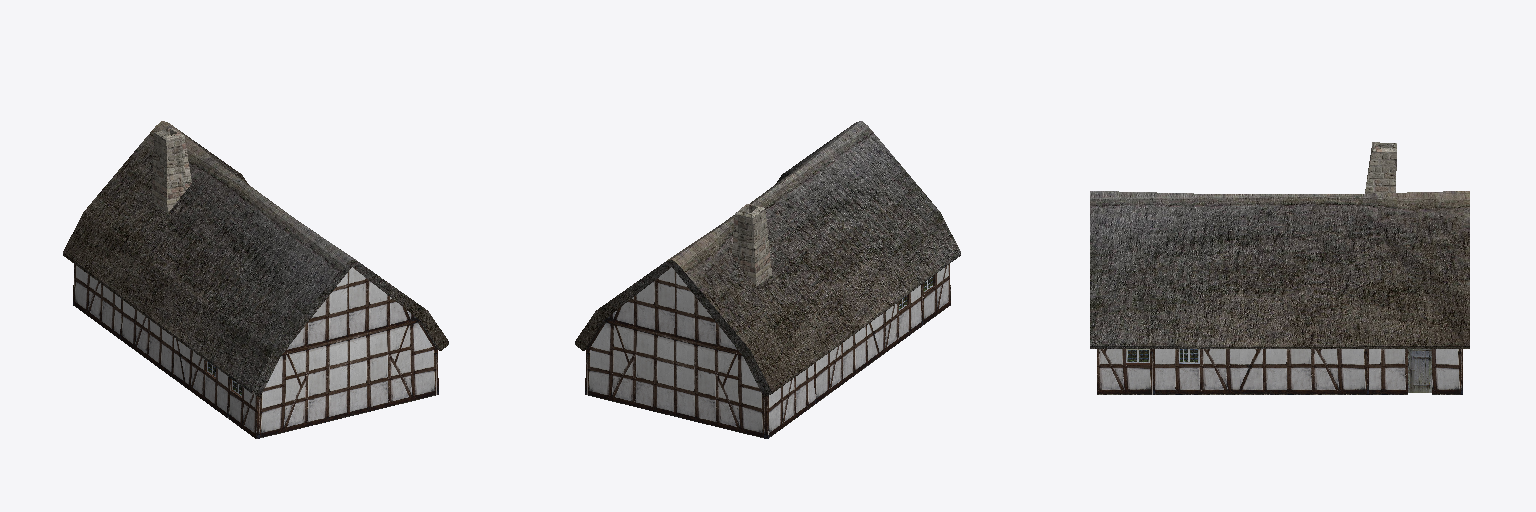
The picture shows the model from 3 angles: view 1: azimuth 30°, elevation 25°; view 2: azimuth 150°, elevation 25°; view 3: azimuth 270°, elevation 25°; orthographic projection.
Visible parts, largest first — view 1: obj0; view 2: obj0; view 3: obj0.
Boxes of the visible parts, box(x1,y1,x2,y2) form: obj0: box(63, 121, 448, 438); obj0: box(575, 121, 960, 438); obj0: box(1090, 142, 1469, 394).
Bounding box in the file's own units: 7.25 × 6.6 × 12.05.
Materials: 14 (5 with a texture image).